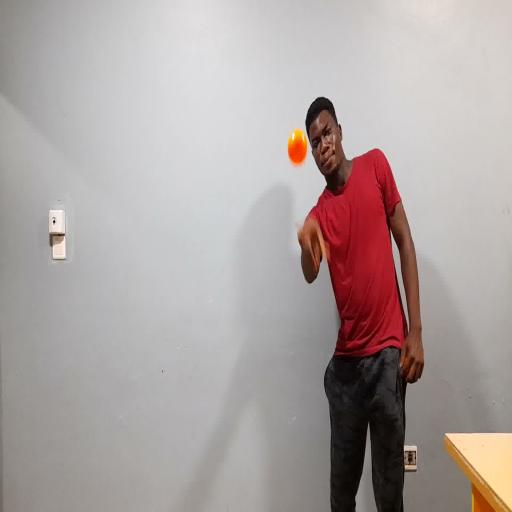plastic-ball: (287, 126, 307, 170)
